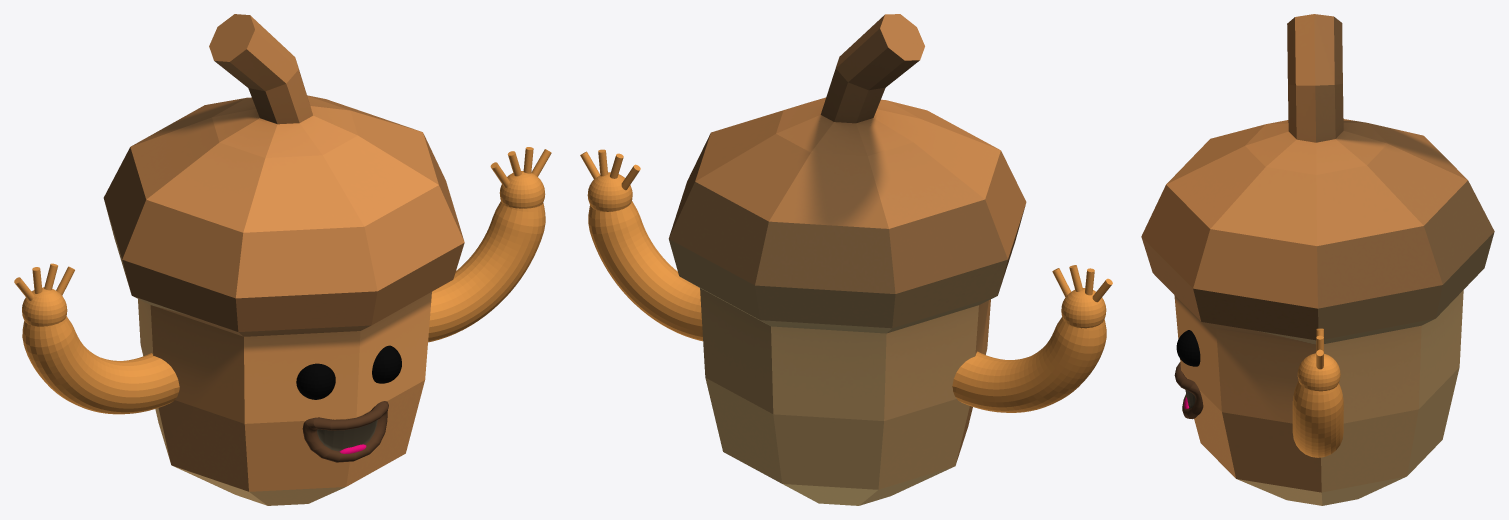
The model's file is ModelAcornMascot.glb.
3 renders of one model, left to right at view 1: azimuth 30°, elevation 25°; view 2: azimuth 150°, elevation 25°; view 3: azimuth 270°, elevation 25°, orthographic. The views are drawn at different scales.
Visible parts, largest first — view 1: acorn, Torus, nose3 toonyMouths_1.001, Sphere.001, Sphere; view 2: acorn, Torus, Sphere.001; view 3: acorn, Torus, Sphere.001, nose3 toonyMouths_1.001, Sphere.
Part boxes in pixels (<box>): acorn: <box>103,14,464,505</box>; Torus: <box>22,201,545,414</box>; nose3 toonyMouths_1.001: <box>302,401,388,462</box>; Sphere.001: <box>22,171,545,326</box>; Sphere: <box>296,345,401,399</box>; acorn: <box>668,14,1026,505</box>; Torus: <box>588,201,1106,412</box>; Sphere.001: <box>587,172,1106,328</box>; acorn: <box>1141,14,1494,505</box>; Torus: <box>1292,380,1343,457</box>; Sphere.001: <box>1297,353,1340,391</box>; nose3 toonyMouths_1.001: <box>1174,362,1203,419</box>; Sphere: <box>1176,330,1200,366</box>.
Bounding box in the file's own units: 2 × 1.71 × 1.21.
9 materials, 1 textured.
